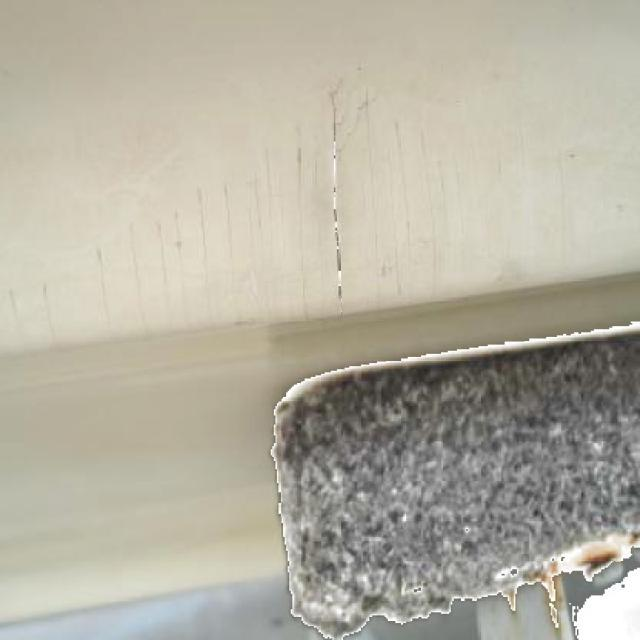crack: (329, 95, 344, 314)
